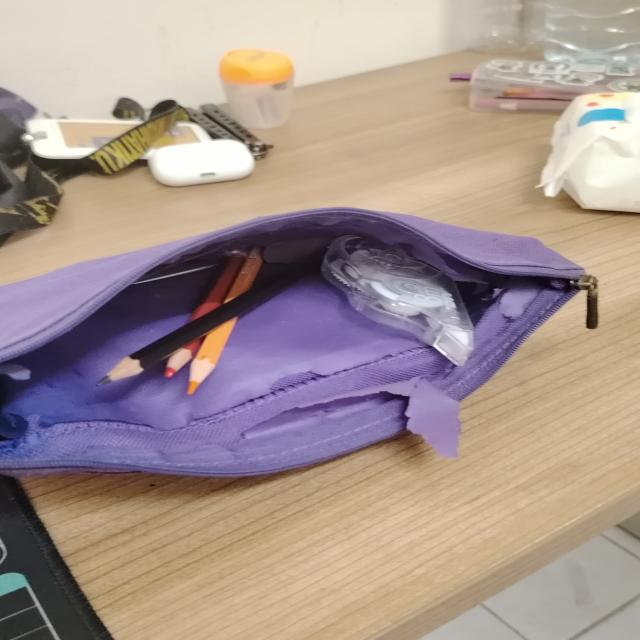pencil: (98, 252, 322, 385), (190, 253, 248, 321), (188, 318, 237, 395), (225, 249, 262, 303), (165, 337, 204, 378)
sharpener: (219, 49, 294, 129)
